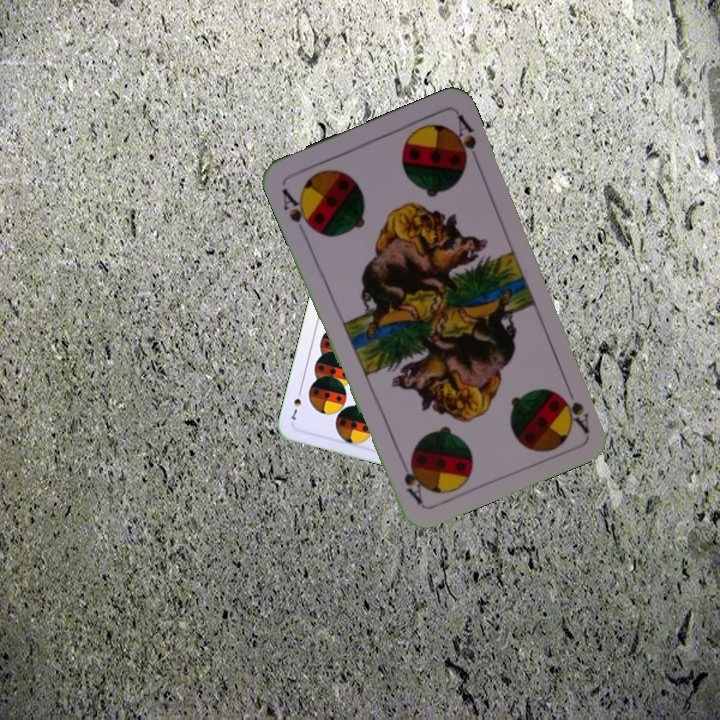SA: (277, 184, 317, 239), (558, 379, 592, 435)
